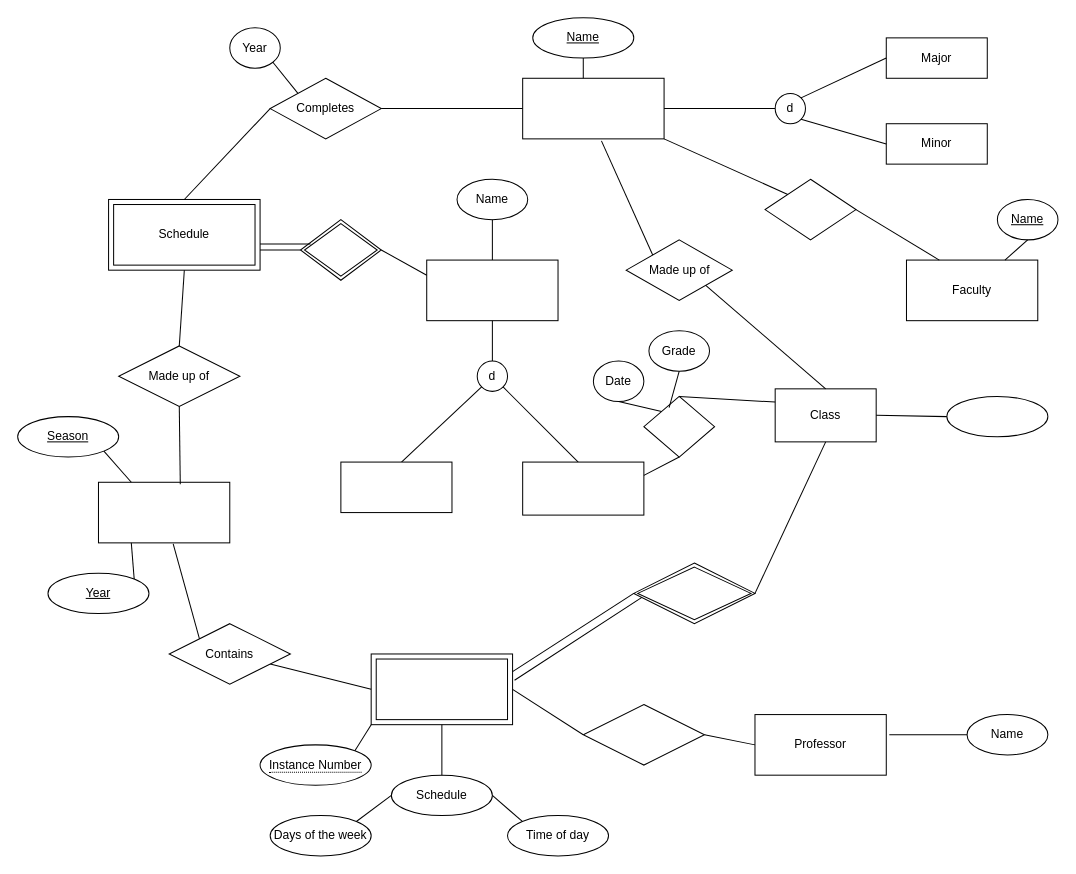
This 1076x874 diagram has some shape labels left out. Each missing label, with the centre of its shape:
"Class Instance" goes at point (441, 689).
"Course Number" goes at point (997, 416).
"Has" goes at point (340, 249).
"Instance of" goes at point (694, 593).
"New Student" goes at point (396, 487).
"Part of" goes at point (810, 209).
"Program" goes at point (593, 108).
"Semester" goes at point (163, 512).
"Student" goes at point (492, 290).
"Teaches" goes at point (643, 734).
"Took" goes at point (679, 426).
"UofC Student" goes at point (583, 488).
